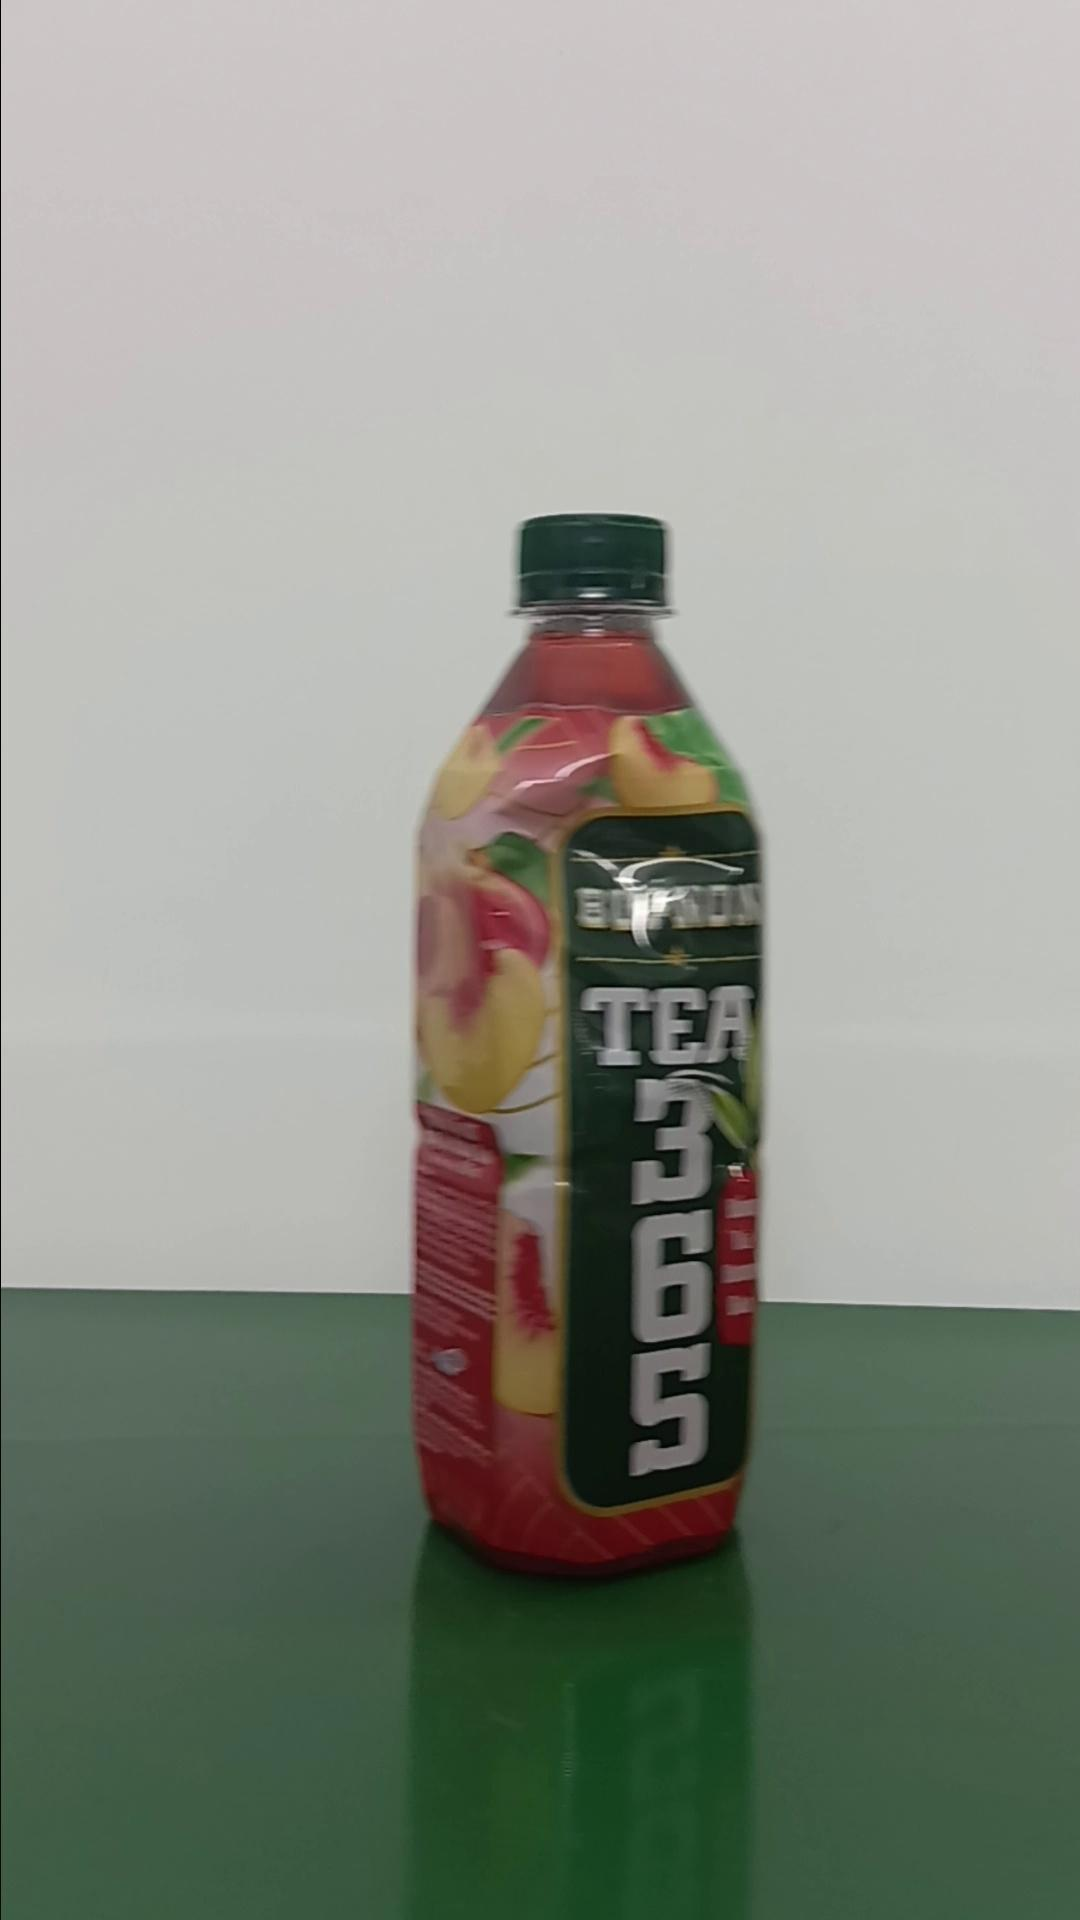loi meo sp: (405, 508, 769, 1578)
